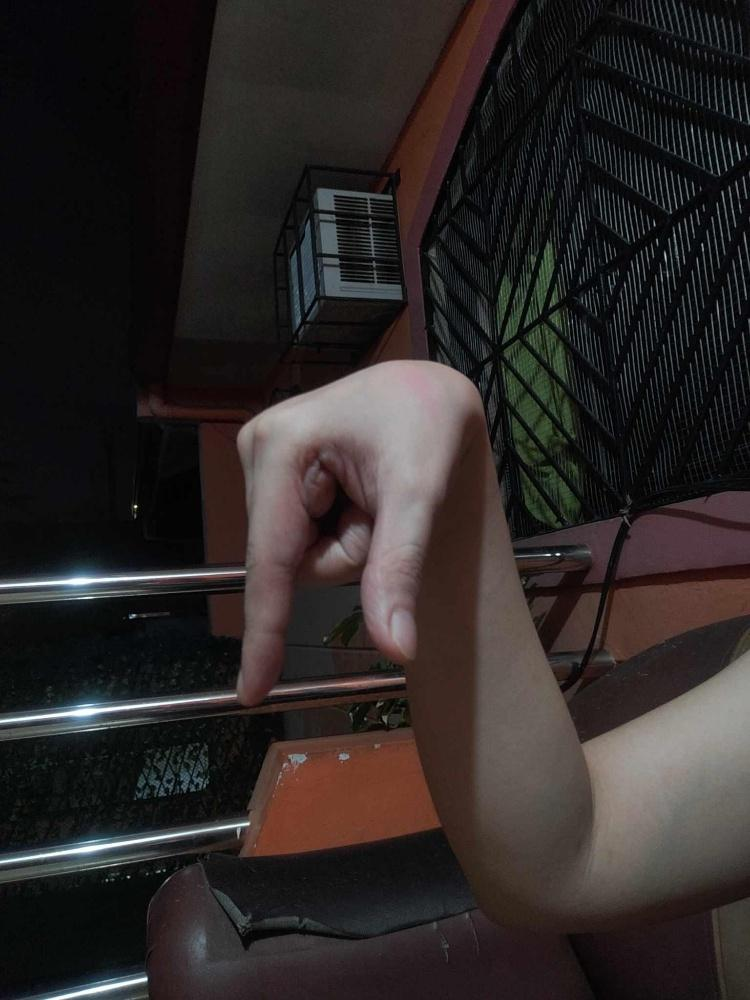q: (235, 357, 472, 707)
